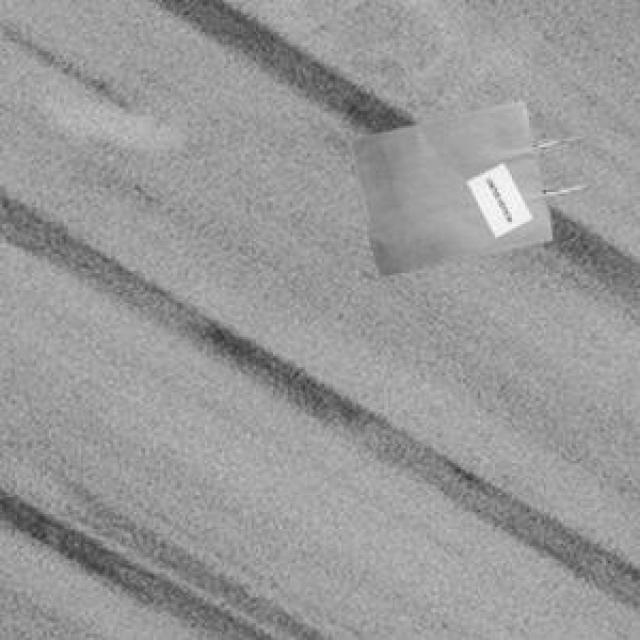paper: (345, 98, 585, 271)
